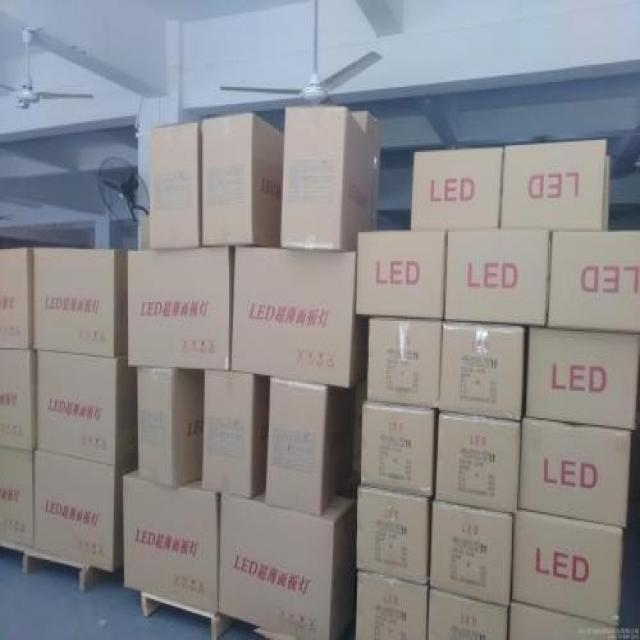box: (219, 488, 357, 640), (230, 247, 364, 387), (279, 106, 380, 251), (123, 469, 218, 614), (511, 510, 622, 625), (517, 418, 631, 529), (35, 449, 136, 573), (127, 247, 229, 369), (526, 328, 639, 430), (36, 350, 136, 464), (202, 111, 284, 247), (33, 247, 127, 358), (443, 229, 550, 326), (500, 138, 609, 232), (547, 232, 640, 333), (429, 502, 515, 608), (201, 369, 270, 500), (435, 411, 521, 514), (265, 375, 326, 515), (439, 323, 524, 422), (136, 367, 204, 488), (356, 230, 447, 319), (410, 147, 503, 229), (361, 398, 435, 497), (356, 488, 429, 585), (148, 123, 202, 251), (367, 319, 443, 408), (356, 570, 428, 640), (426, 589, 508, 640), (508, 604, 620, 638), (1, 350, 36, 451), (0, 449, 35, 548), (1, 247, 33, 350)
